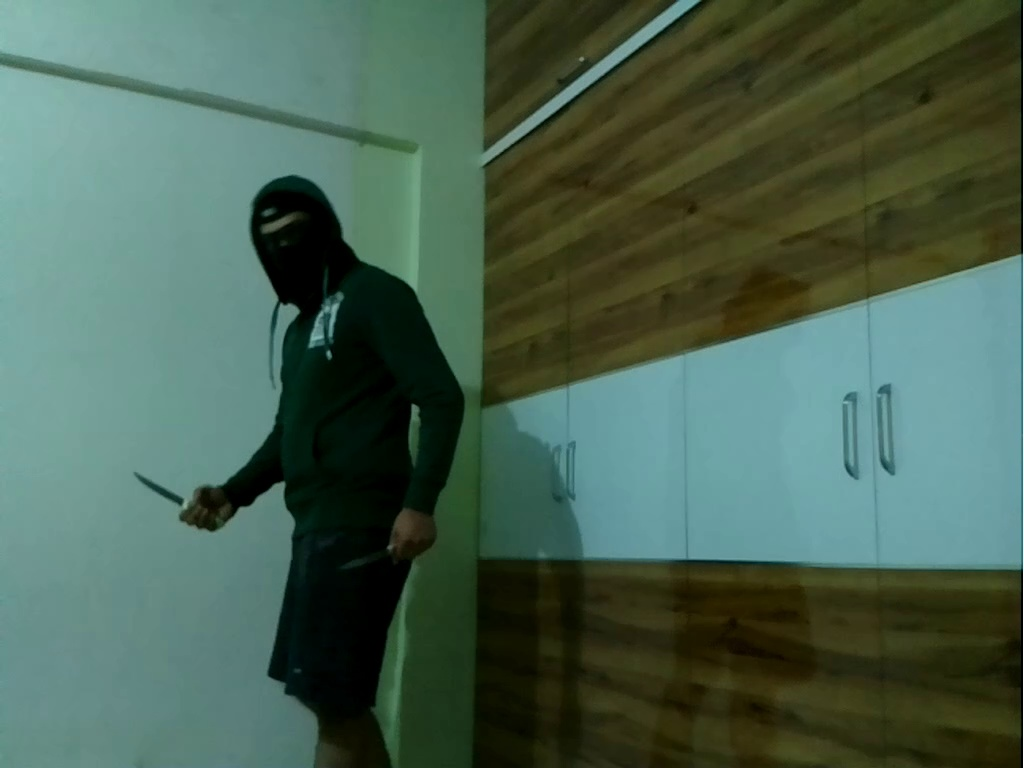knife: (124, 460, 219, 525)
